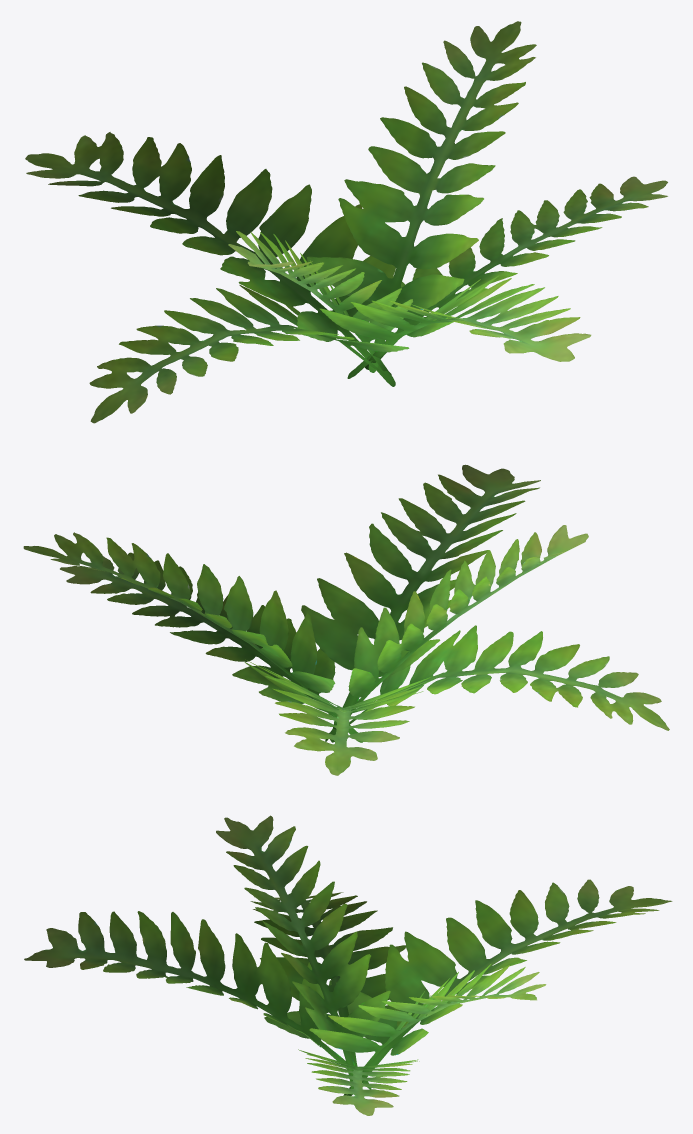
The model's file is P_Fern1_Yellow.obj.
3 views of the same model, one above another, from view 1: azimuth 30°, elevation 25°; view 2: azimuth 150°, elevation 25°; view 3: azimuth 270°, elevation 25° (orthographic). The views are drawn at different scales.
Bounding box in the file's own units: 2.73 × 0.9586 × 2.8.
